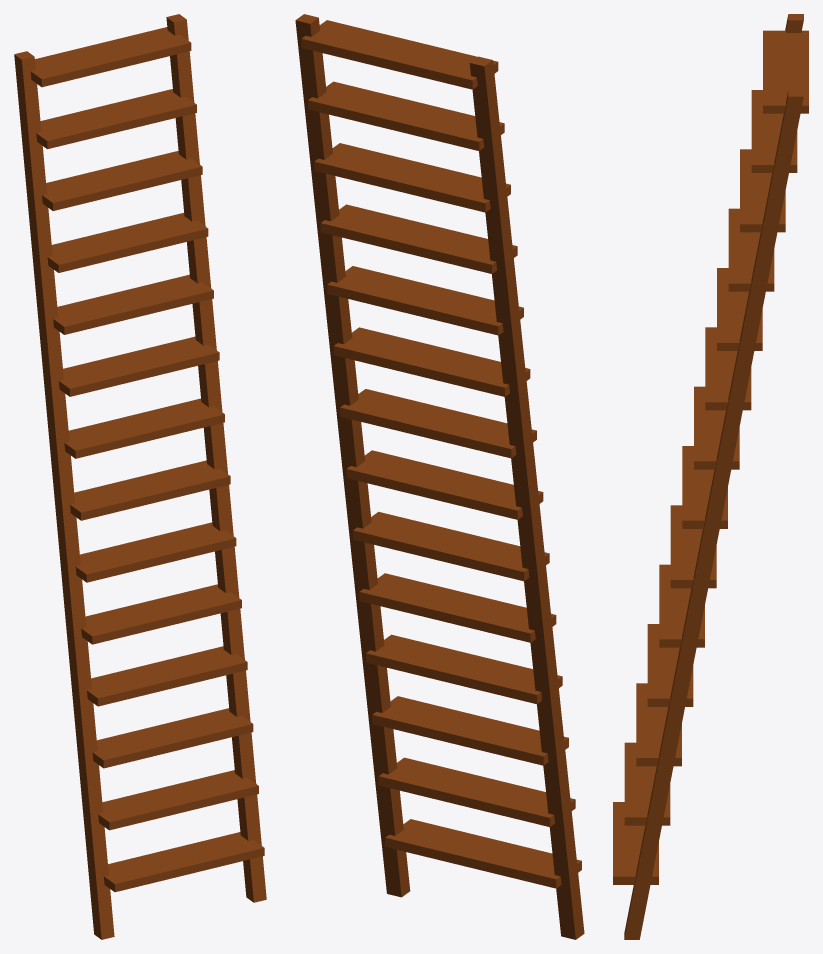
The model's file is Prop_Stairs_Wooden_02.FBX.
3 renders of one model, left to right at view 1: azimuth 30°, elevation 25°; view 2: azimuth 150°, elevation 25°; view 3: azimuth 270°, elevation 25°, orthographic. The views are drawn at different scales.
Parts seen in each view (by area): view 1: Prop_Stairs_Wooden_02; view 2: Prop_Stairs_Wooden_02; view 3: Prop_Stairs_Wooden_02.
Boxes of the visible parts, <box> form: Prop_Stairs_Wooden_02: <box>14,14,266,939</box>; Prop_Stairs_Wooden_02: <box>295,14,584,939</box>; Prop_Stairs_Wooden_02: <box>613,14,808,939</box>.
Size of the model in its own units: 630 by 2997 by 631.
